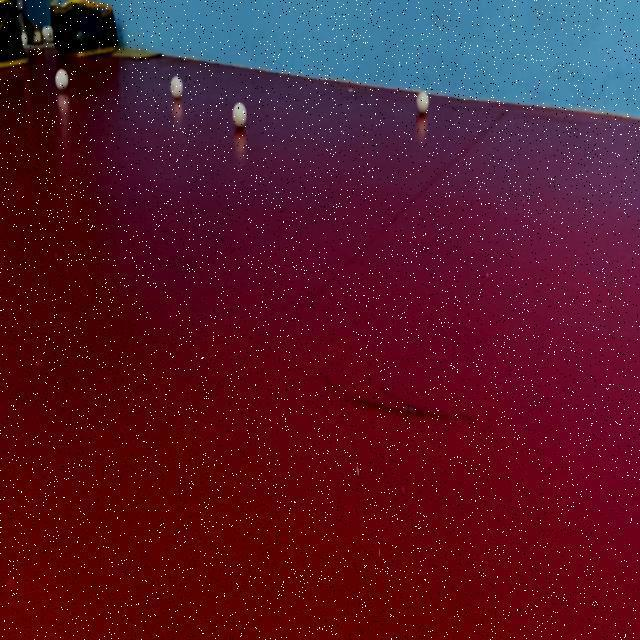ping-pong-ball: (226, 96, 254, 130), (167, 68, 190, 105), (413, 83, 433, 115), (54, 66, 74, 96), (41, 15, 55, 46)
